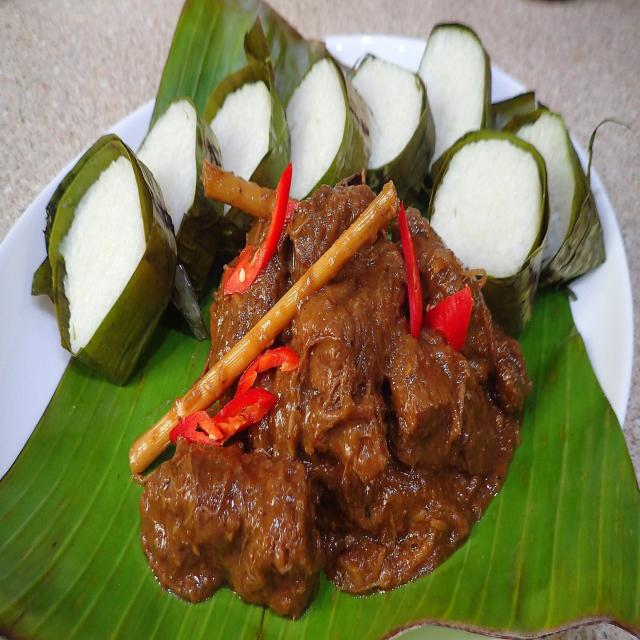Rendang: (138, 186, 526, 589)
